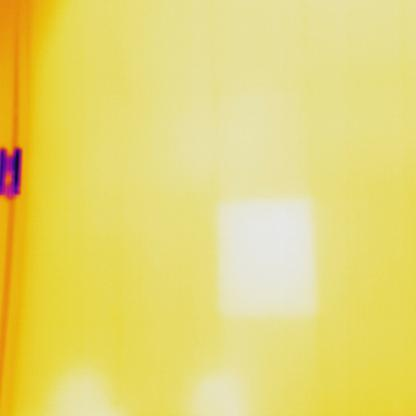hotspot: (215, 194, 319, 322)
